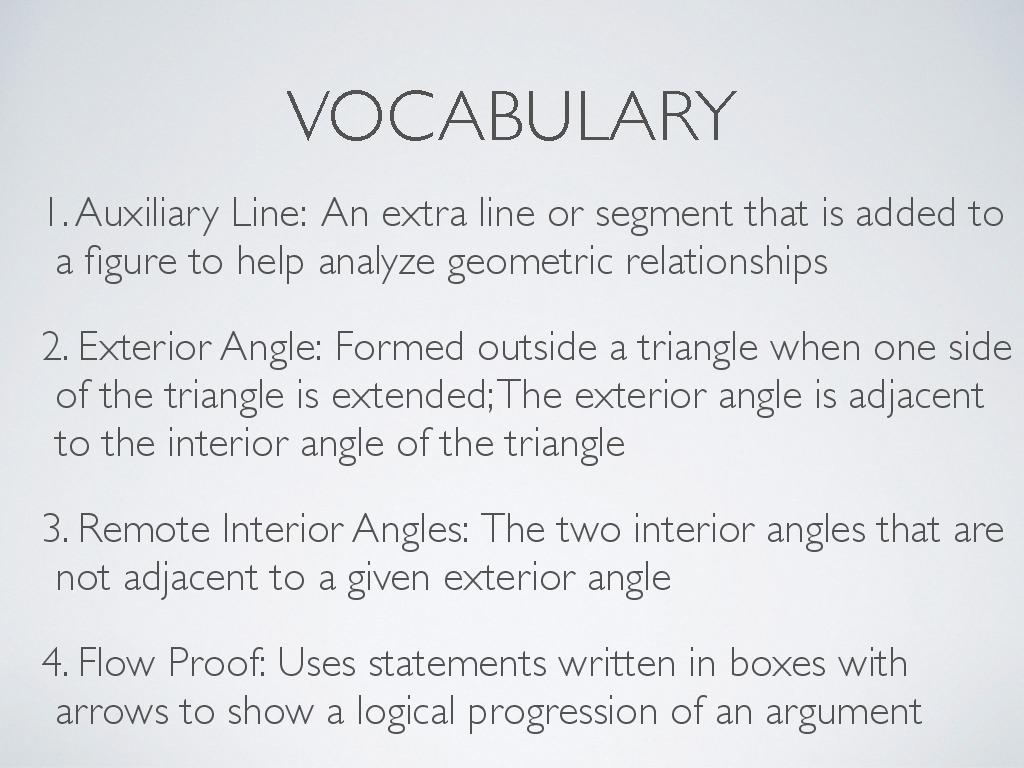paragraph: (28, 179, 1024, 752)
title: (264, 61, 762, 169)
